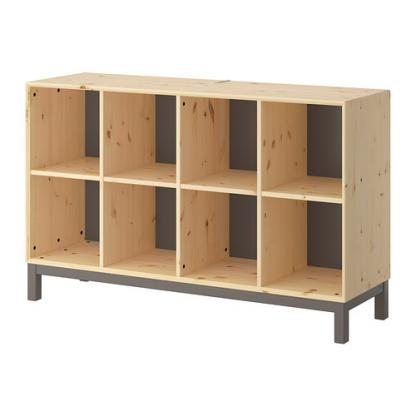Cabinet: (20, 64, 394, 346)
